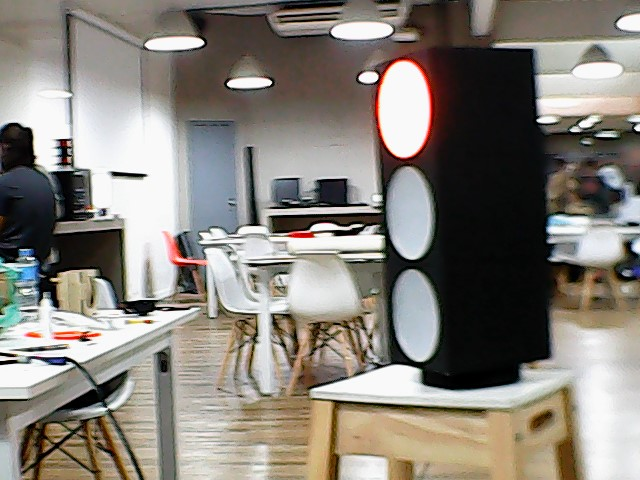vermelho: (365, 42, 562, 376)
